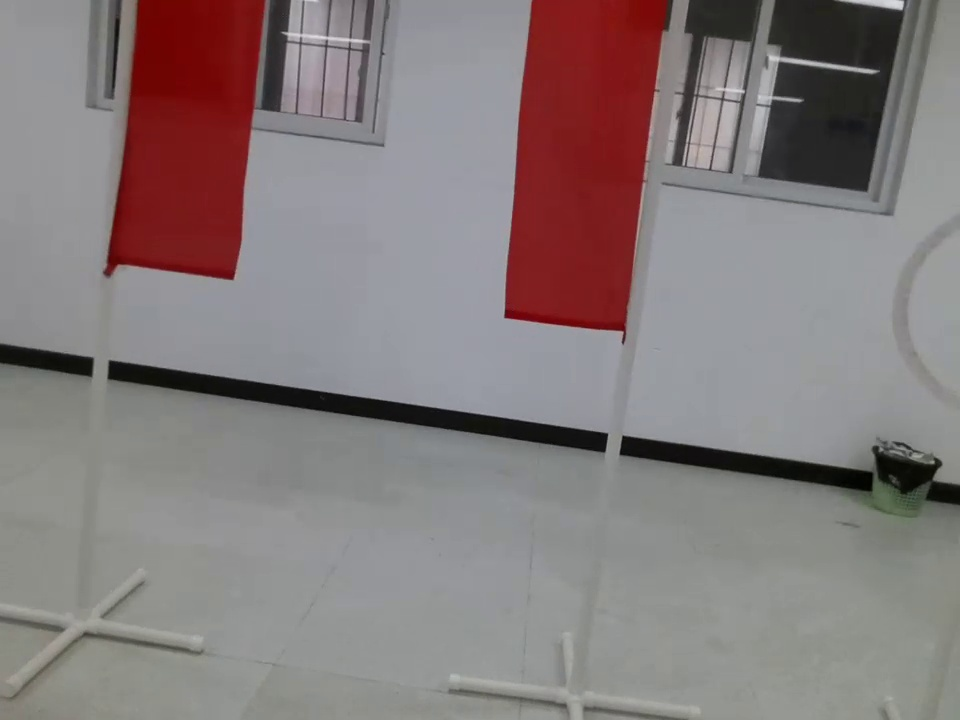qi: (491, 3, 692, 364), (96, 4, 274, 290)
quan: (882, 198, 960, 421)
